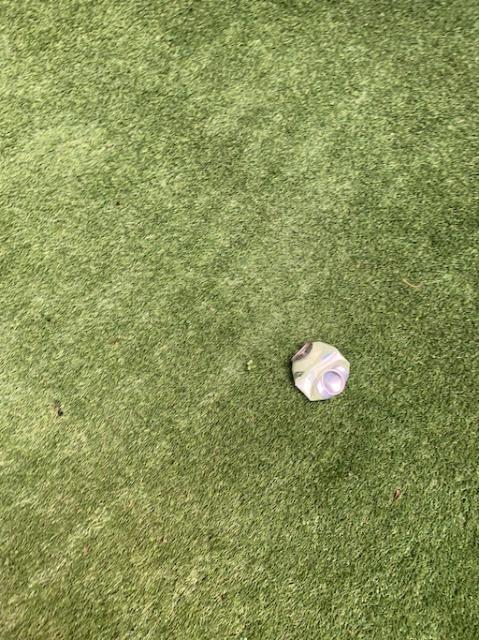metal: (290, 340, 349, 399)
